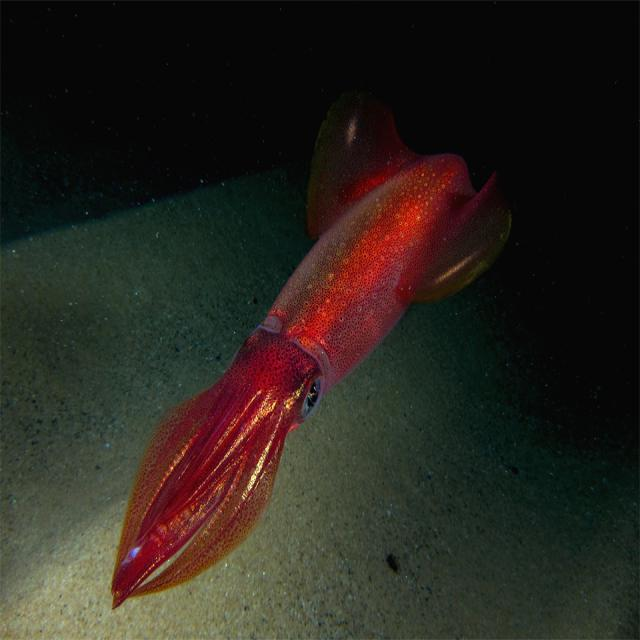SQUID: (92, 73, 561, 619)
